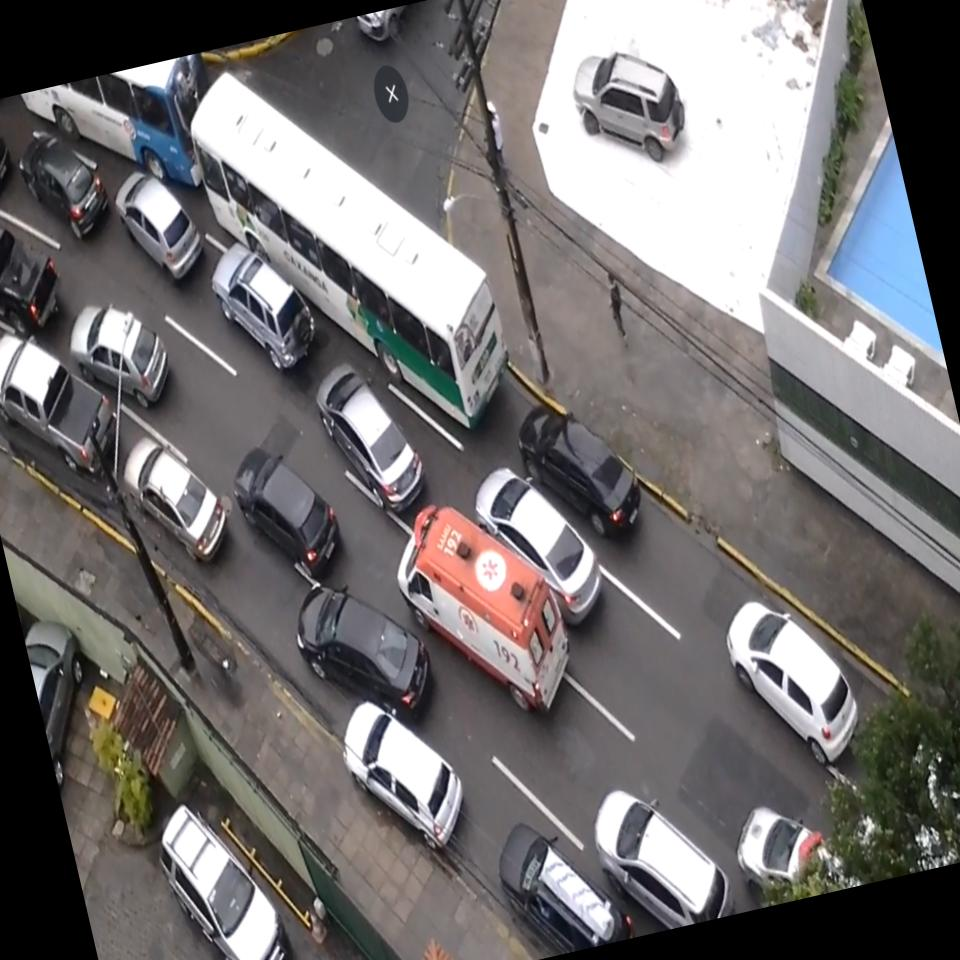bombeiro: (381, 478, 585, 740)
